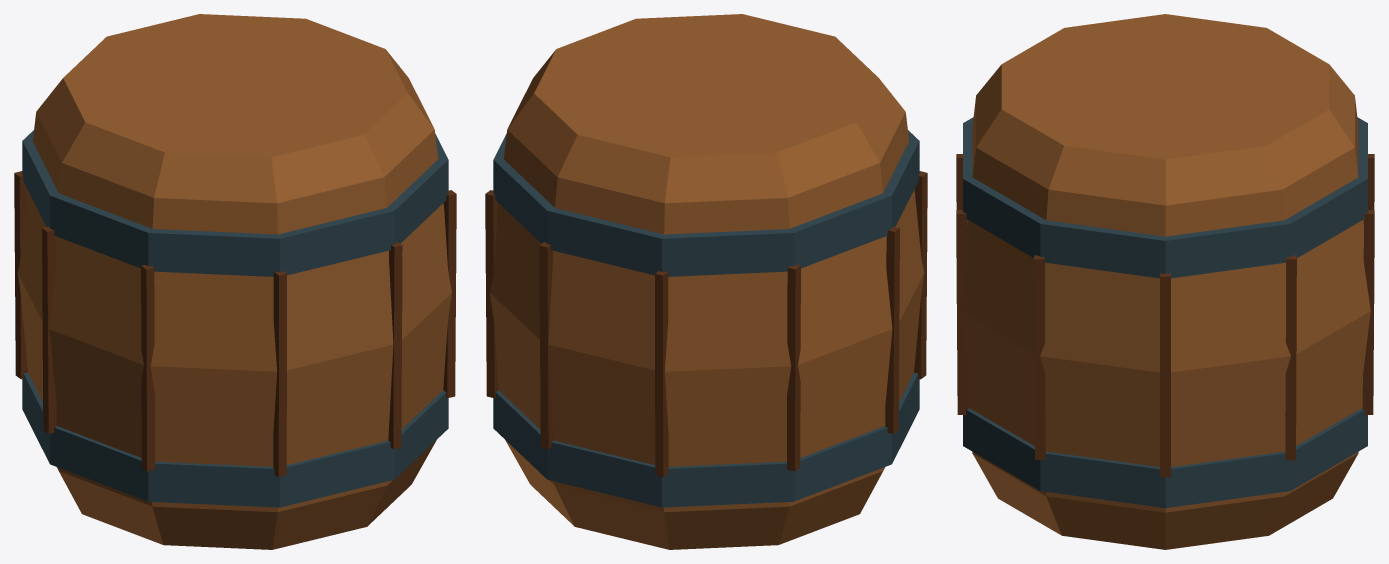
The model's file is barrel.fbx.
3 views of the same model, side by side, from view 1: azimuth 30°, elevation 25°; view 2: azimuth 150°, elevation 25°; view 3: azimuth 270°, elevation 25° (orthographic).
Visible parts, largest first — view 1: barrel; view 2: barrel; view 3: barrel.
Part boxes in pixels (x1,y1,x2,y2): barrel: [14, 14, 456, 549]; barrel: [485, 14, 927, 549]; barrel: [956, 14, 1374, 549].
Size of the model in its own units: 0.572 by 0.56 by 0.5466.
